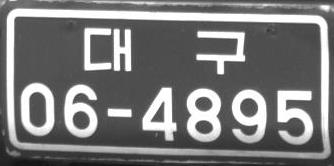0: (19, 80, 55, 136)
4: (140, 87, 176, 140)
5: (277, 90, 314, 145)
6: (63, 83, 98, 138)
8: (186, 86, 221, 143)
9: (231, 88, 267, 144)
대구_D: (83, 26, 246, 75)
